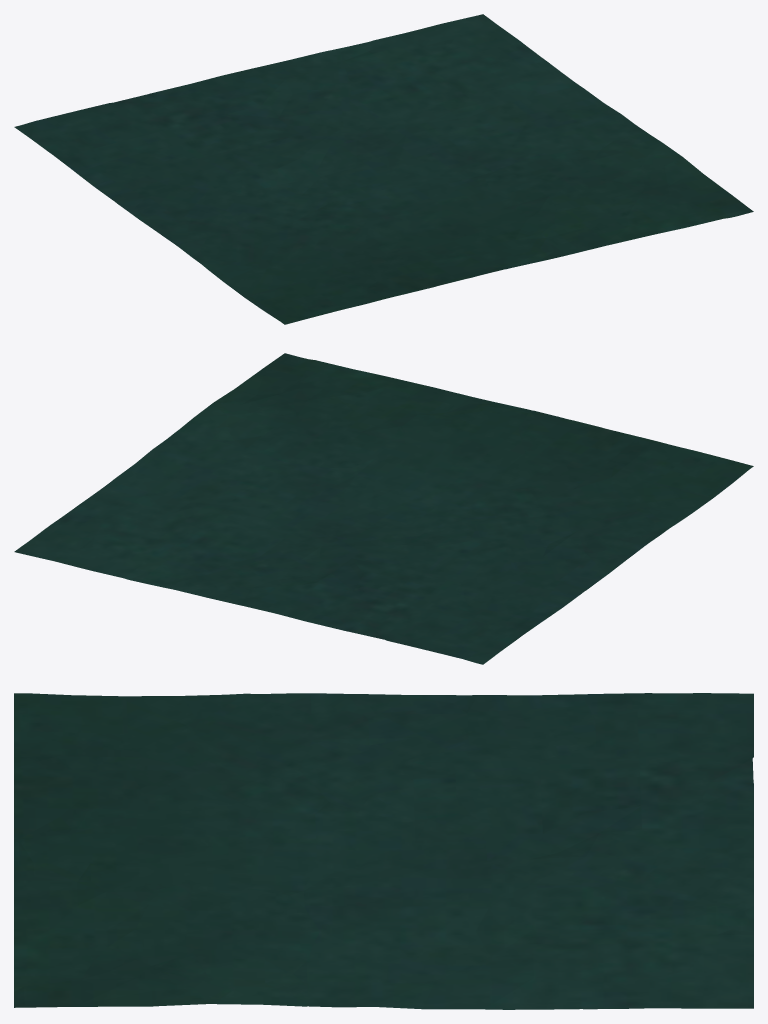
3 views of the same model, one above another, from view 1: azimuth 30°, elevation 25°; view 2: azimuth 150°, elevation 25°; view 3: azimuth 270°, elevation 25° (orthographic). The views are drawn at different scales.
Size of the model in its own units: 52.22 by 0.64 by 52.22.
Materials: 2 (2 with a texture image).
